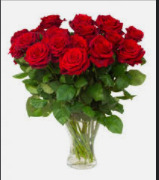RedRose: (92, 7, 126, 40), (116, 37, 147, 69), (44, 23, 73, 56), (88, 38, 116, 69), (7, 25, 33, 58), (59, 48, 90, 74), (70, 11, 95, 37), (26, 43, 48, 70), (65, 33, 89, 54), (123, 25, 148, 41), (41, 13, 64, 29)
